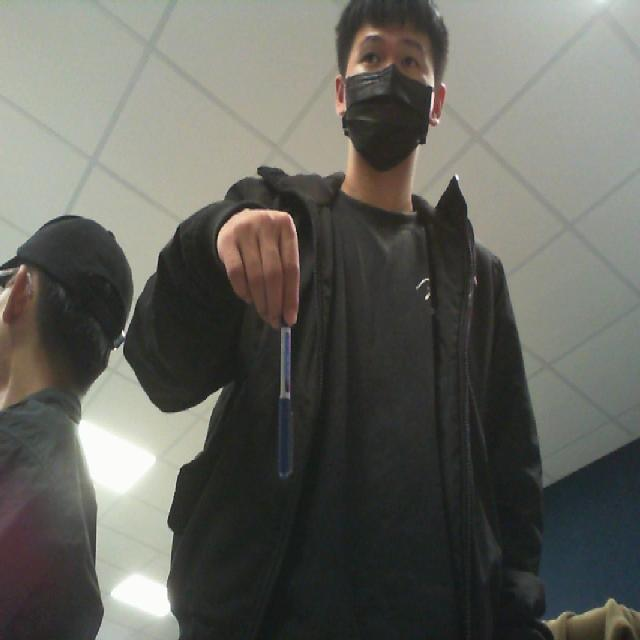Pen: (264, 302, 310, 501)
